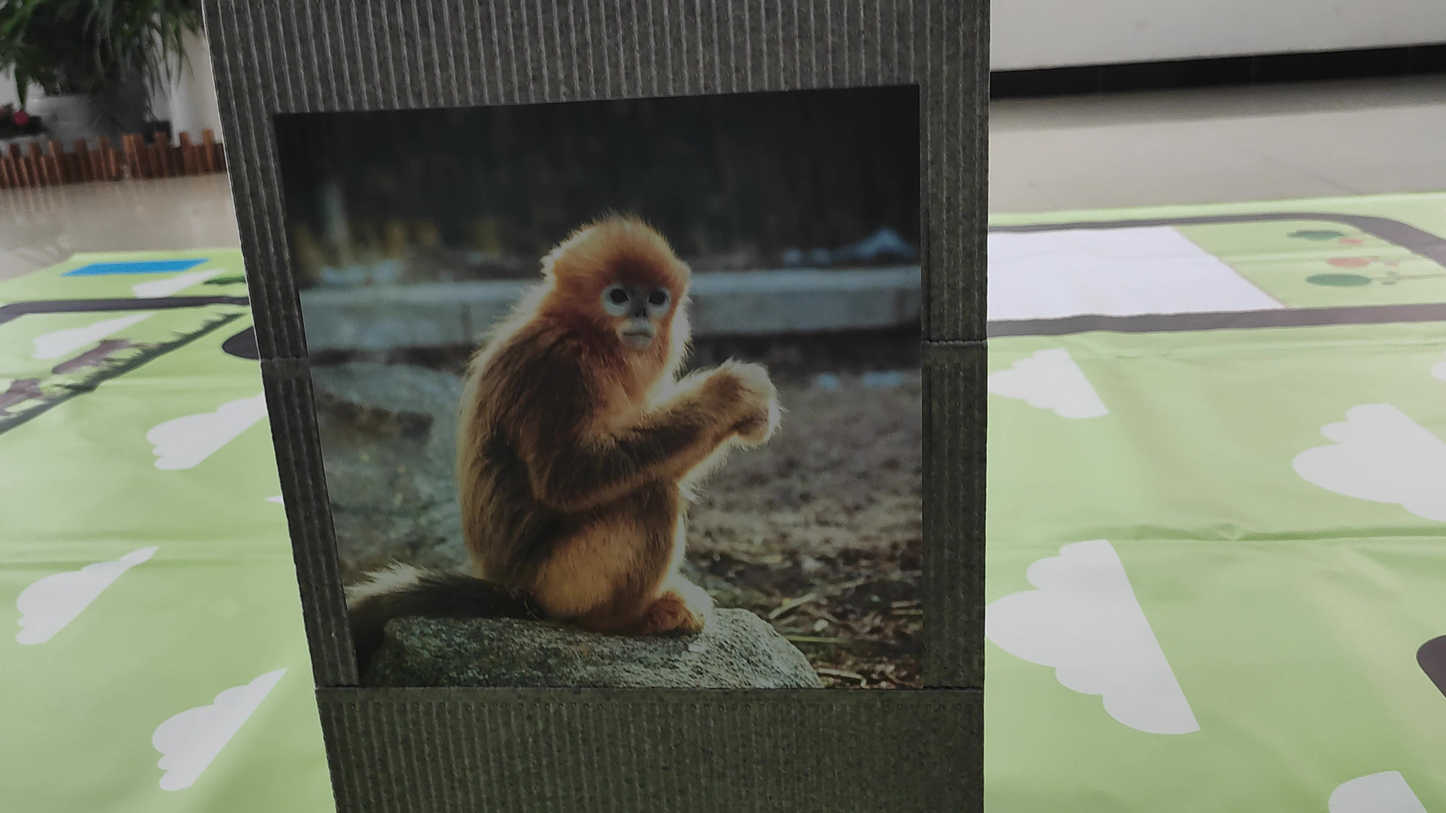monkey: (340, 169, 817, 666)
